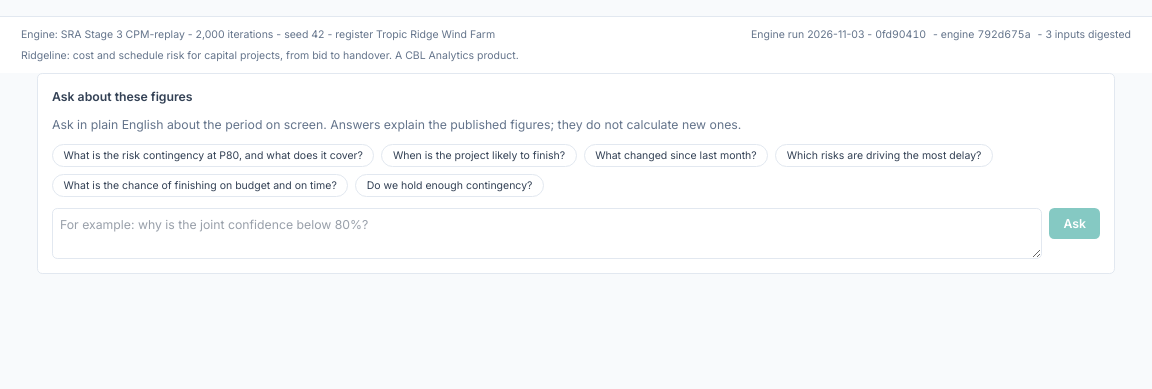
it: the Ask box › says plainly when a figure was withheld
This screenshot has width=1152, height=389.
Click the button "When is the project likely to finish?" at (479, 156), box [381, 144, 577, 167]
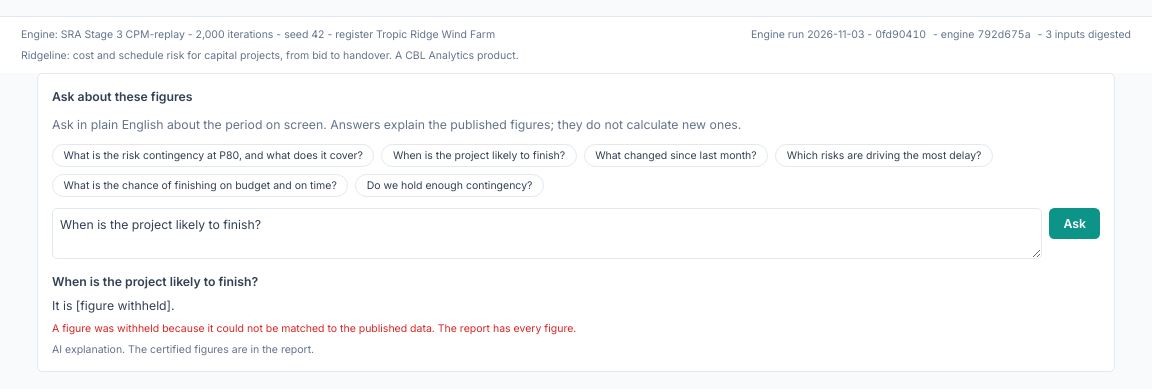
Result: the text "A figure was withheld" is shown at [52, 322, 576, 334]
